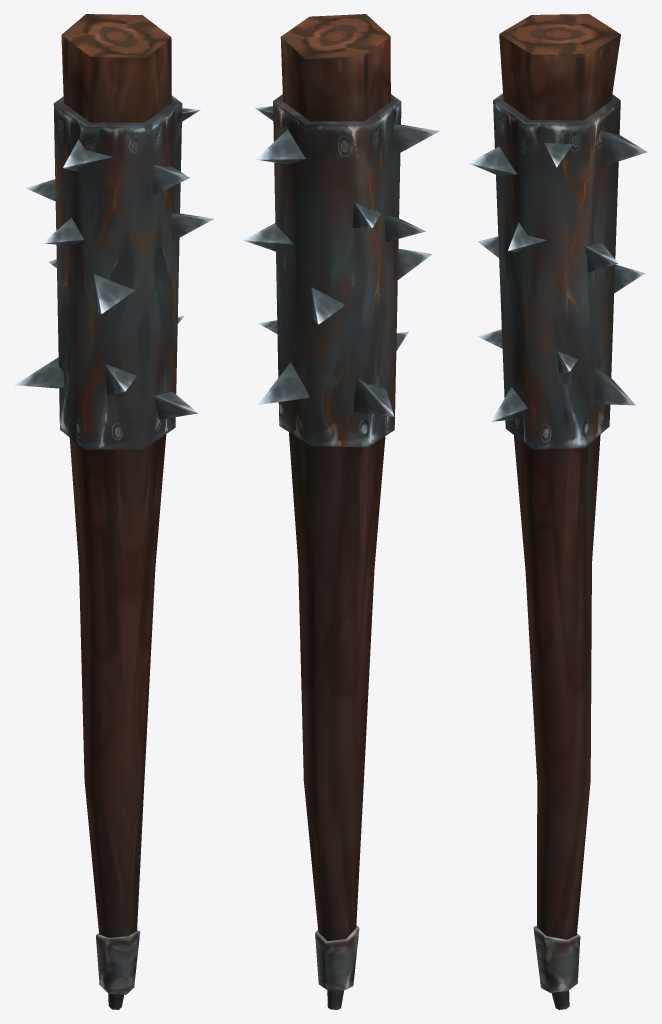
File: Mace00_mesh.FBX
3 renders of one model, left to right at view 1: azimuth 30°, elevation 25°; view 2: azimuth 150°, elevation 25°; view 3: azimuth 270°, elevation 25°, orthographic.
Parts seen in each view (by area): view 1: Mace00_mesh; view 2: Mace00_mesh; view 3: Mace00_mesh.
Boxes of the visible parts, bbox=[...] form: Mace00_mesh: bbox=[14, 14, 213, 1009]; Mace00_mesh: bbox=[243, 14, 439, 1009]; Mace00_mesh: bbox=[468, 14, 647, 1009].
Size of the model in its own units: 5.97 by 33.62 by 5.63.
